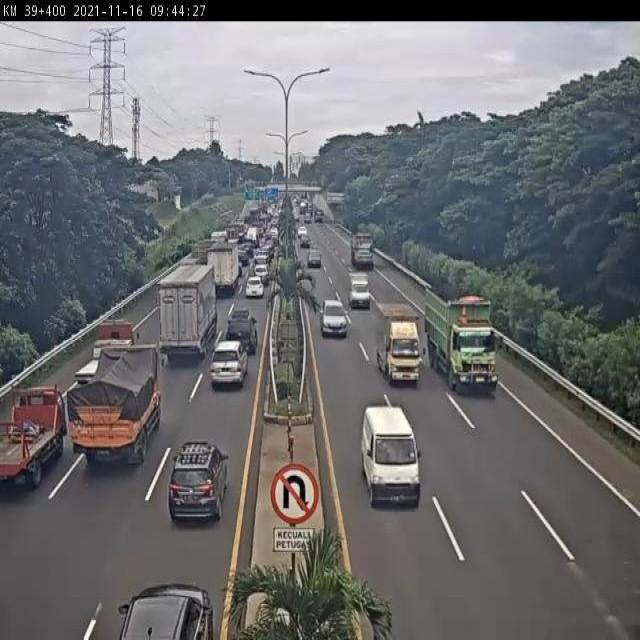car: (360, 408, 421, 507), (167, 443, 231, 524), (225, 309, 259, 359), (211, 341, 246, 387), (320, 300, 347, 336), (244, 278, 263, 298)
small truck: (0, 384, 64, 497), (72, 321, 141, 388), (376, 303, 424, 387), (349, 274, 373, 310)
truck-l-: (422, 284, 498, 393), (158, 264, 218, 364)
truck-m-: (68, 341, 160, 475), (205, 241, 242, 295)
